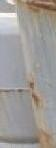cylinder: (0, 1, 56, 148)
